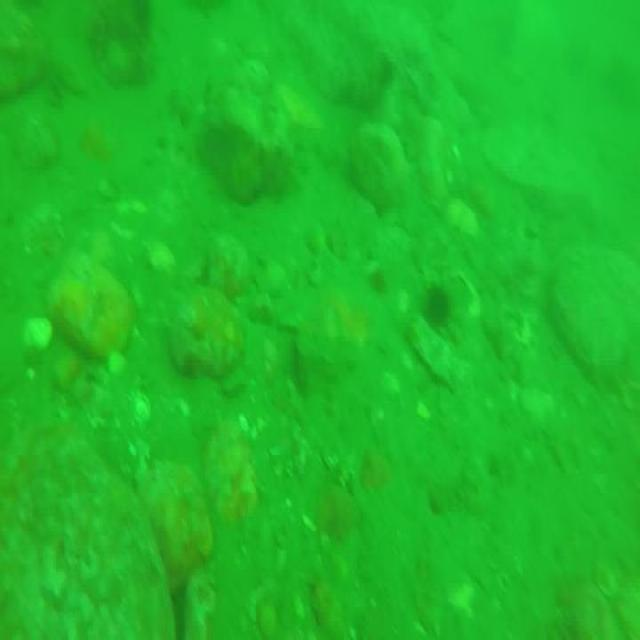echinus: (425, 283, 456, 329)
scallop: (447, 194, 480, 245), (21, 313, 55, 357), (146, 237, 175, 272), (105, 350, 128, 378), (134, 394, 153, 425)
